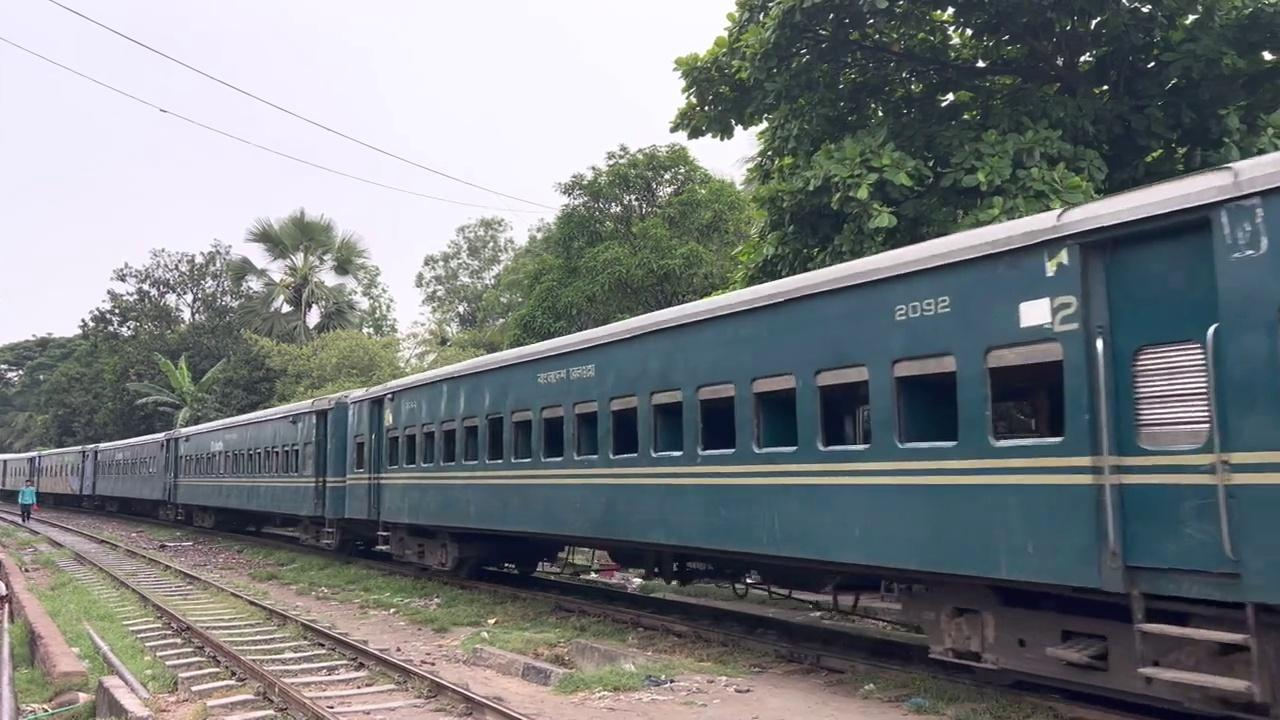Fence: (17, 479, 37, 523)
Motorcycle: (1, 501, 530, 718)
Potted-plant: (0, 113, 1280, 681)
Railroad-crossing: (487, 140, 759, 349), (224, 206, 387, 345), (411, 214, 520, 353)
